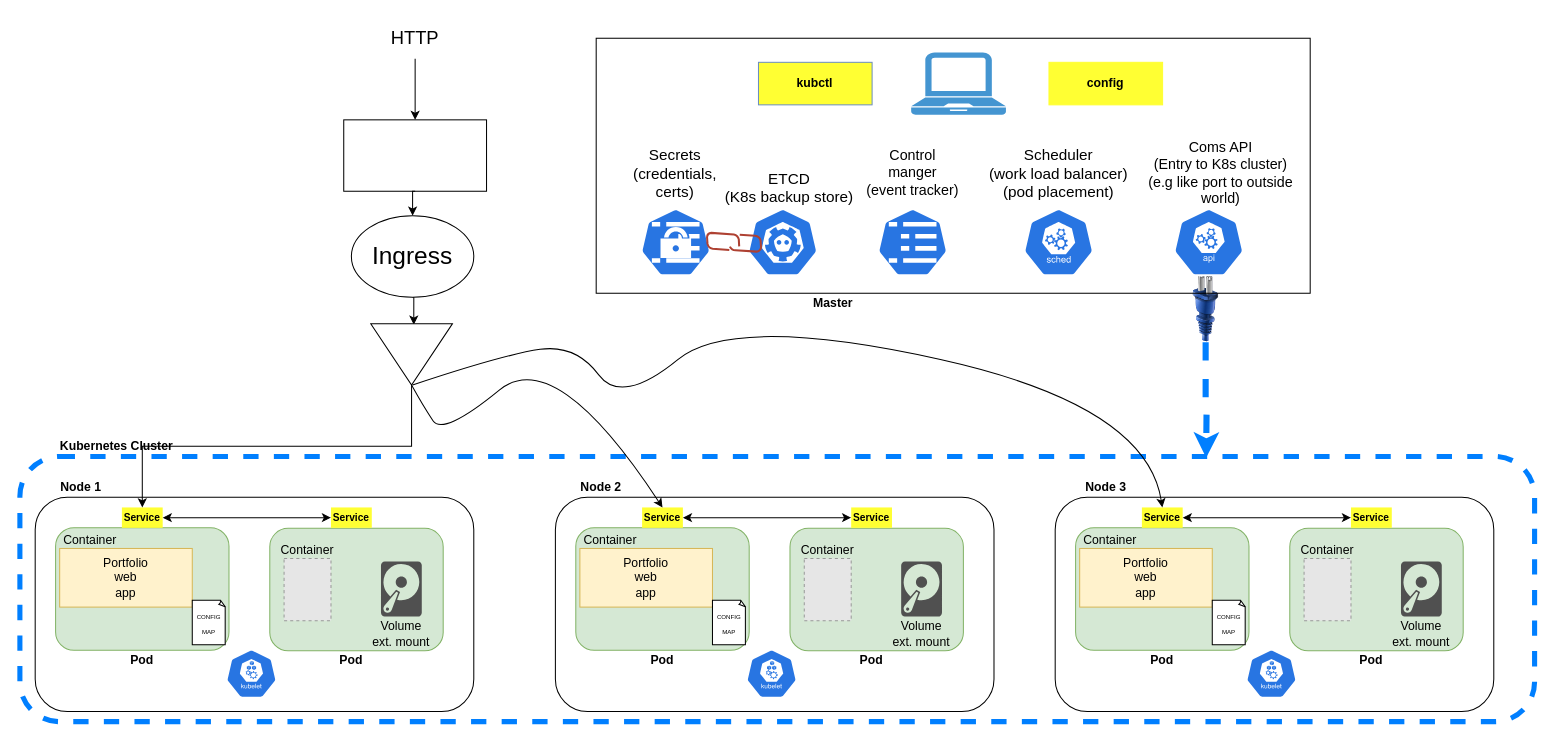
The diagram is 1554 pixels wide and 742 high, and some of its shapes have lost their labels. Grey dashed boxes stand in for pictures. Here are the shapes that lost their labels. From the top down, the centre of each, then its label:
At (x=415, y=155): "Ingress managed load balancer".
At (x=411, y=354): "Routing Rule".
